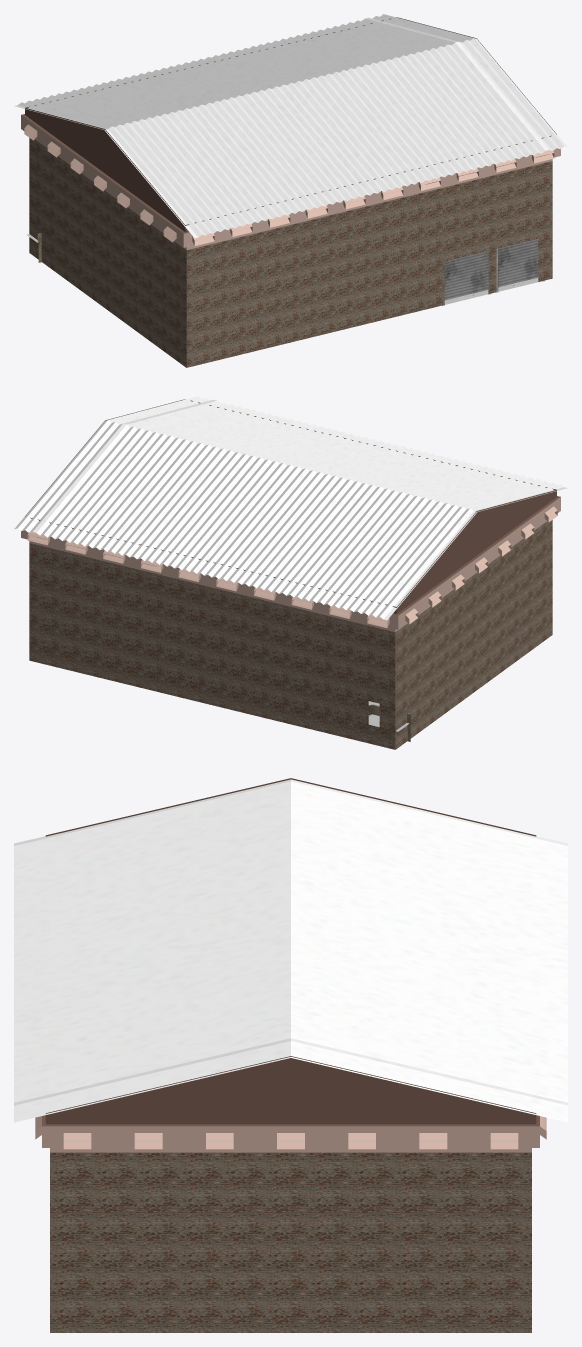
File: Sandbox.fbx
3 renders of one model, top to bottom at view 1: azimuth 30°, elevation 25°; view 2: azimuth 150°, elevation 25°; view 3: azimuth 270°, elevation 25°, orthographic. The views are drawn at different scales.
Visible parts, largest first — view 1: NonBaked.032; view 2: NonBaked.032; view 3: NonBaked.032.
Boxes of the visible parts, box(x1,y1,x2,y2) form: NonBaked.032: box(14, 14, 567, 367); NonBaked.032: box(14, 396, 567, 749); NonBaked.032: box(14, 778, 567, 1332).
Size of the model in its own units: 2879 by 1315 by 2342.
